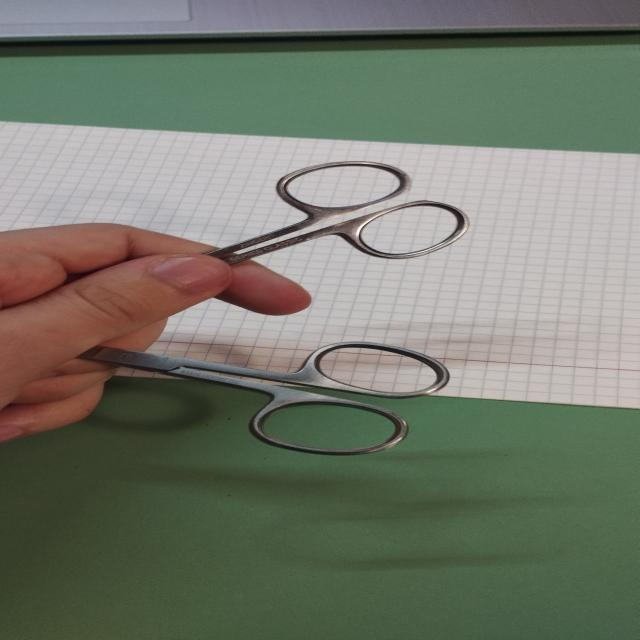tesoura: (85, 156, 476, 312), (0, 333, 462, 461)
